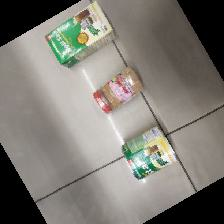Hao_hao: (92, 66, 145, 114)
NSPN_Hop: (46, 2, 116, 69)
NSPN_Lon: (123, 125, 177, 185)
